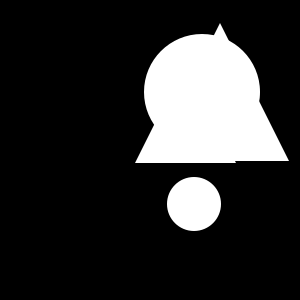rectangle: (144, 34, 260, 150), (167, 177, 221, 231)
triangle: (151, 23, 289, 161), (135, 62, 236, 163)
